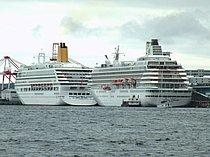Ship: (83, 36, 195, 112), (11, 40, 105, 109)
